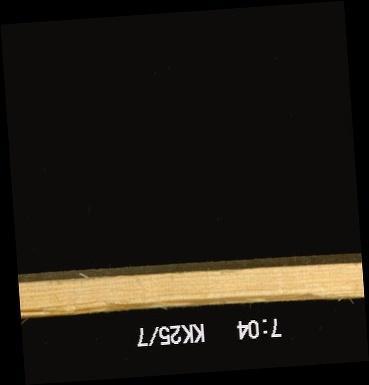split: (20, 304, 62, 318)
wave: (73, 289, 321, 308)
